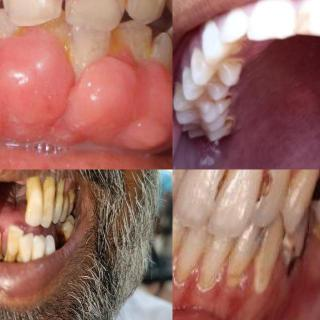Gum Swelling: (0, 39, 172, 127)
calculus: (46, 15, 85, 63), (273, 226, 310, 275), (126, 23, 166, 67), (100, 19, 132, 58), (310, 211, 320, 241), (2, 246, 18, 262), (57, 226, 72, 242), (14, 250, 26, 264)
cavities: (253, 220, 267, 248), (214, 172, 228, 198), (254, 177, 272, 197), (310, 169, 320, 201)
maligned: (63, 9, 115, 78), (5, 223, 24, 263), (15, 232, 33, 260), (0, 226, 4, 256)
plaque: (197, 230, 221, 260), (173, 220, 197, 246)
stains: (214, 90, 240, 116), (223, 58, 249, 76), (219, 118, 245, 136)
